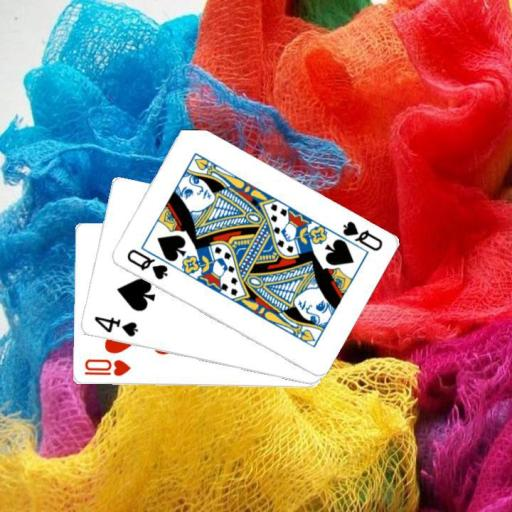10H: (81, 357, 132, 379)
4S: (91, 314, 140, 339)
QS: (123, 246, 169, 282), (338, 218, 384, 253)
